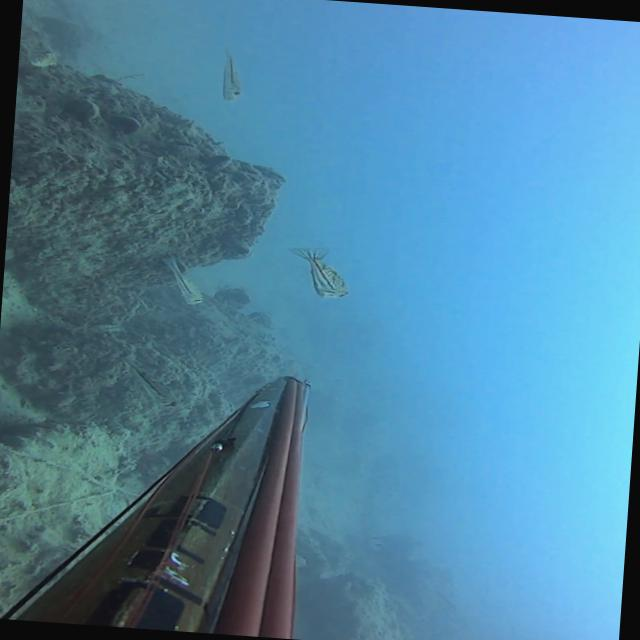Balon Baligi: (283, 244, 350, 298), (121, 358, 180, 408), (158, 255, 204, 305), (219, 50, 242, 100), (26, 38, 58, 67)
